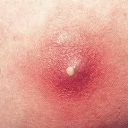Carbuncle: (53, 55, 89, 91)
